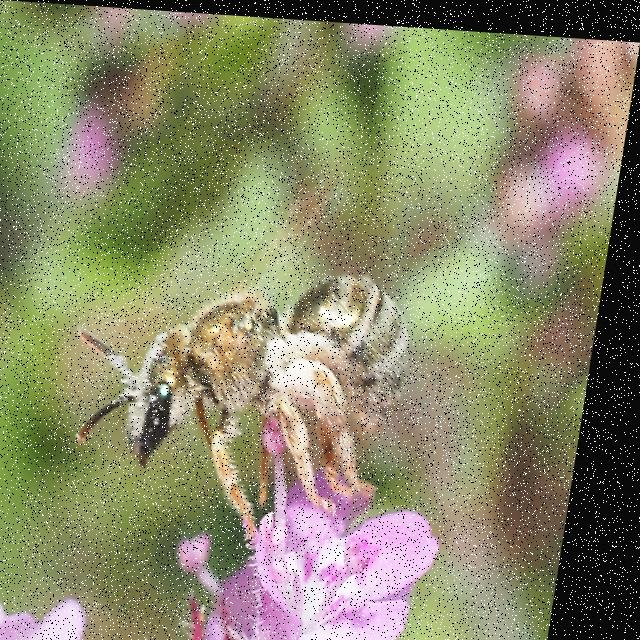Seladonia: (34, 122, 455, 590)
